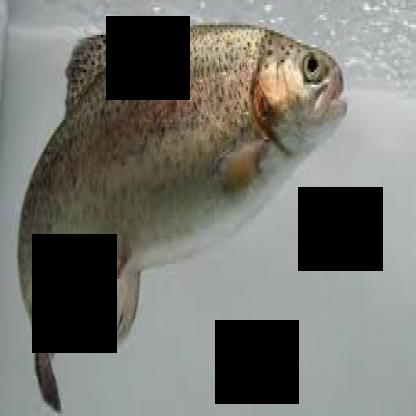fish: (17, 22, 346, 409)
